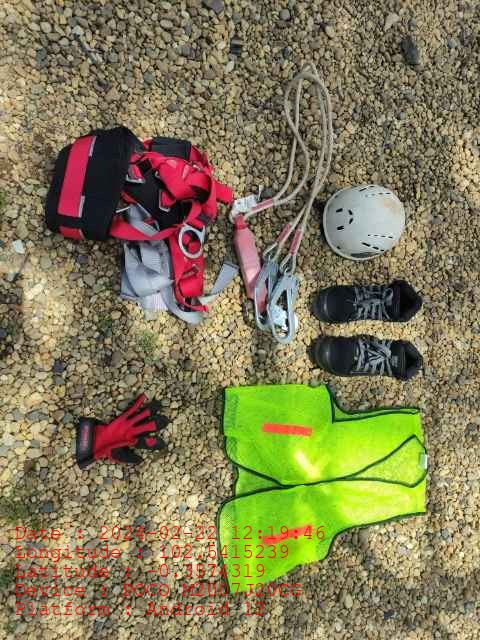HELM: (323, 184, 402, 259)
ROMPI: (223, 386, 431, 585)
SARUNG TANGAN: (76, 397, 170, 466)
SEPATU: (309, 334, 423, 380), (312, 286, 421, 324)
TAMBANG_SLING: (240, 70, 313, 341)
